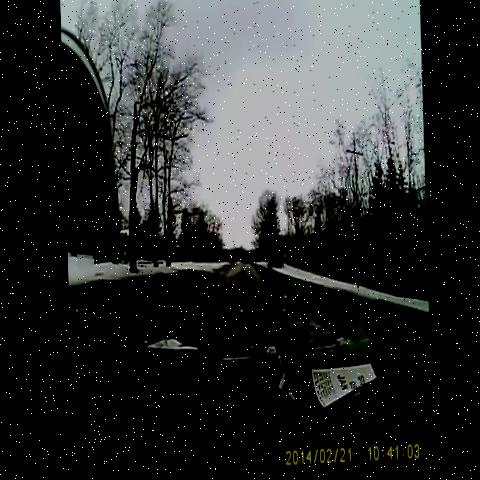pothole: (202, 275, 236, 344), (230, 300, 272, 348), (281, 312, 317, 347)
